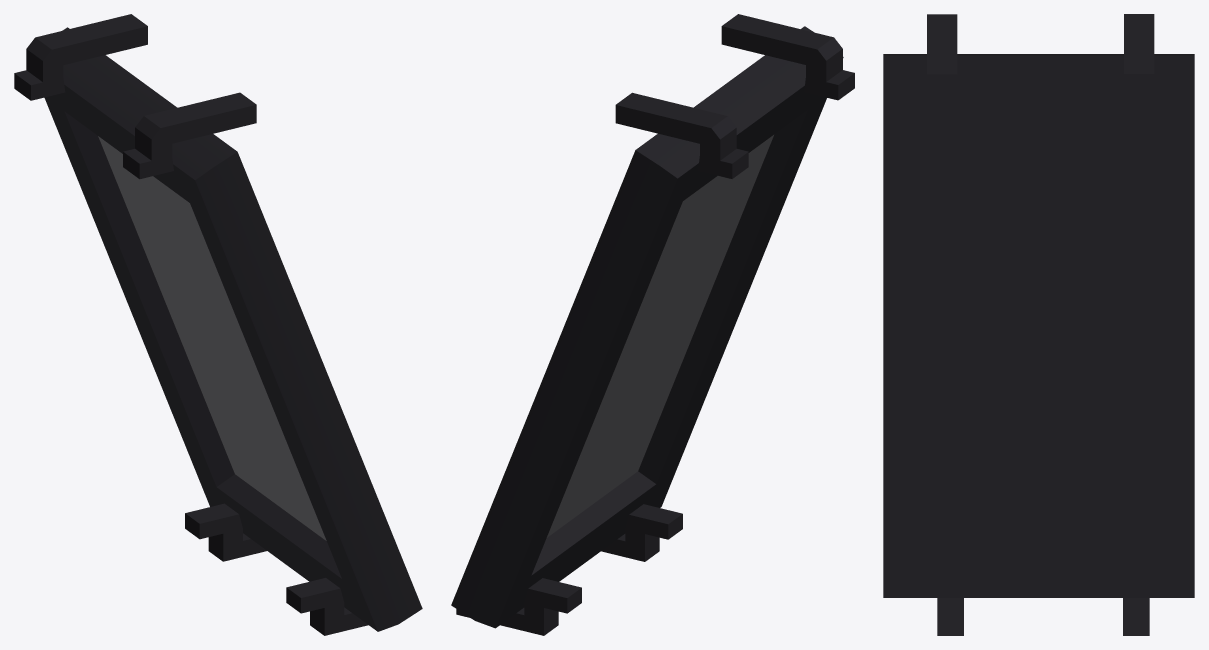
Rendered from plate1.fbx.
The picture shows the model from 3 angles, left to right: view 1: azimuth 30°, elevation 25°; view 2: azimuth 150°, elevation 25°; view 3: azimuth 270°, elevation 25°; orthographic projection. The views are drawn at different scales.
Visible parts, largest first — view 1: plate1; view 2: plate1; view 3: plate1.
Boxes of the visible parts, x1,y1,x2,y2 form: plate1: (14,14,422,635); plate1: (451,14,854,635); plate1: (883,14,1194,635).
Bounding box in the file's own units: 105 × 198 × 110.
